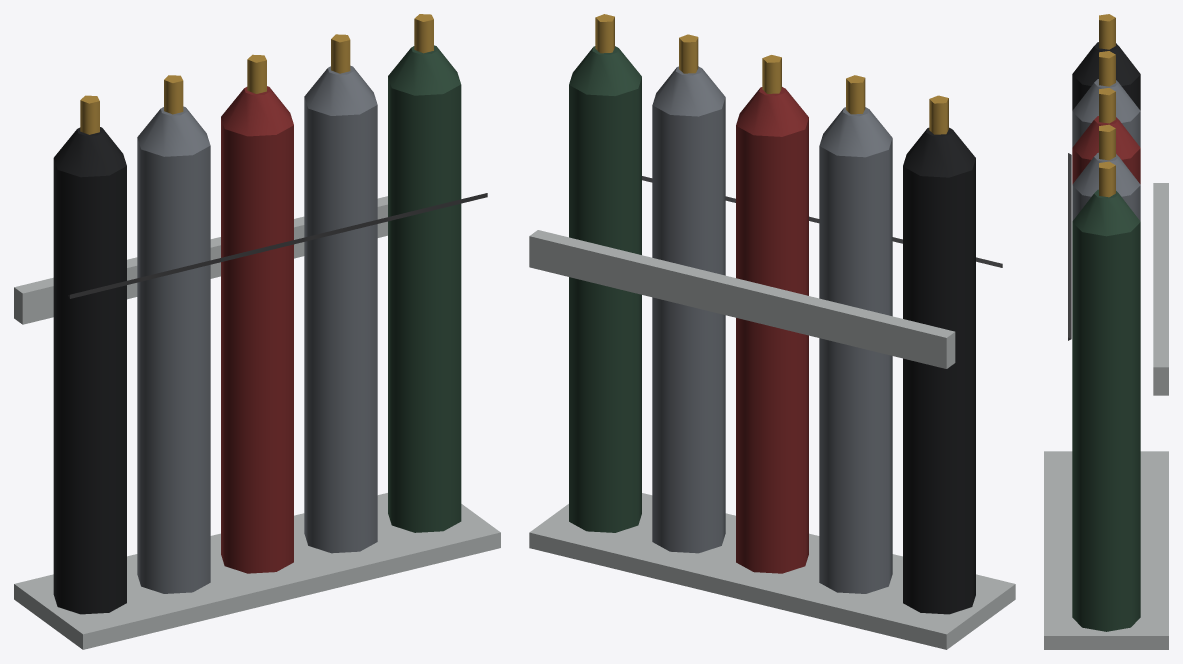
Rendered from gas_cylinders.glb.
The picture shows the model from 3 angles, left to right: view 1: azimuth 30°, elevation 25°; view 2: azimuth 150°, elevation 25°; view 3: azimuth 270°, elevation 25°; orthographic projection. The views are drawn at different scales.
Visible parts, largest first — view 1: gas_cylinders; view 2: gas_cylinders; view 3: gas_cylinders.
Part boxes in pixels (x1,y1,x2,y2): gas_cylinders: [14, 14, 500, 649]; gas_cylinders: [529, 14, 1015, 649]; gas_cylinders: [1044, 14, 1168, 649].
Bounding box in the file's own units: 1.4 × 1.65 × 0.4.
1 material, 1 textured.
